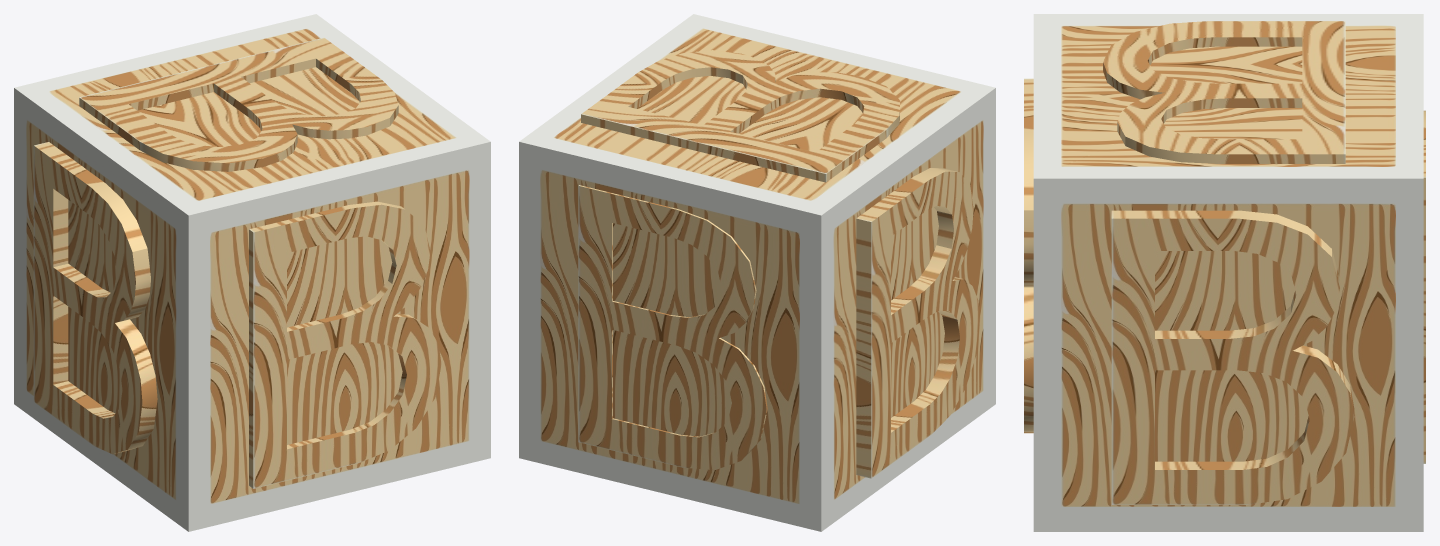
The model's file is Block B.fbx.
3 views of the same model, side by side, from view 1: azimuth 30°, elevation 25°; view 2: azimuth 150°, elevation 25°; view 3: azimuth 270°, elevation 25° (orthographic). The views are drawn at different scales.
Visible parts, largest first — view 1: Box, FRONT, LEFT, TOP; view 2: Box, BACK, LEFT, TOP; view 3: Box, RIGHT, TOP, FRONT, BACK.
Part boxes in pixels (left/top/right/bottom): Box: left=14, top=14, right=490, bottom=531; FRONT: left=249, top=201, right=441, bottom=488; LEFT: left=33, top=142, right=157, bottom=454; TOP: left=79, top=37, right=398, bottom=171; Box: left=519, top=14, right=995, bottom=531; BACK: left=578, top=185, right=767, bottom=470; LEFT: left=856, top=168, right=979, bottom=478; TOP: left=581, top=50, right=899, bottom=182; Box: left=1033, top=14, right=1423, bottom=531; RIGHT: left=1111, top=210, right=1354, bottom=504; TOP: left=1103, top=21, right=1345, bottom=163; FRONT: left=1024, top=78, right=1033, bottom=433; BACK: left=1423, top=110, right=1425, bottom=463.
Size of the model in its own units: 1.1 by 1.04 by 1.03.
2 materials, 2 textured.
